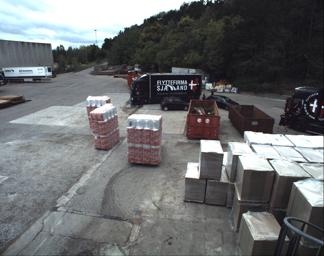rockwool_batts: (126, 111, 162, 163), (89, 103, 119, 146), (85, 92, 110, 120)
